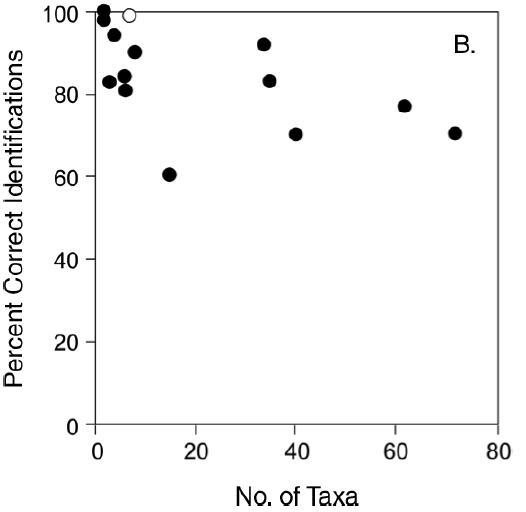axis: (84, 3, 101, 436), (85, 419, 506, 436)
point: (444, 121, 468, 144), (259, 69, 282, 92), (160, 164, 182, 187), (285, 122, 308, 144), (396, 94, 417, 116), (255, 34, 274, 55), (125, 42, 146, 60), (120, 9, 142, 26), (106, 25, 123, 44), (116, 68, 134, 83), (117, 83, 135, 98), (99, 75, 117, 90), (96, 4, 113, 16), (96, 14, 111, 27)
